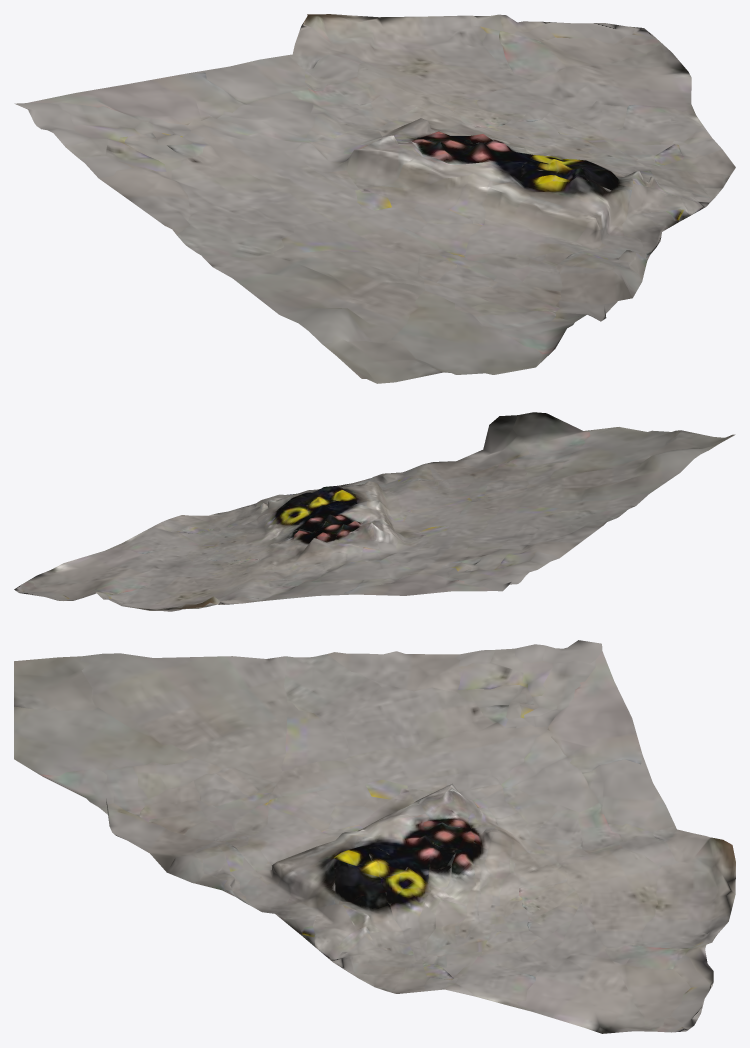
Rendered from hall.glb.
3 renders of one model, top to bottom at view 1: azimuth 30°, elevation 25°; view 2: azimuth 150°, elevation 25°; view 3: azimuth 270°, elevation 25°, orthographic. The views are drawn at different scales.
Bounding box in the file's own units: 1.96 × 0.3774 × 2.14.
1 material, 1 textured.
